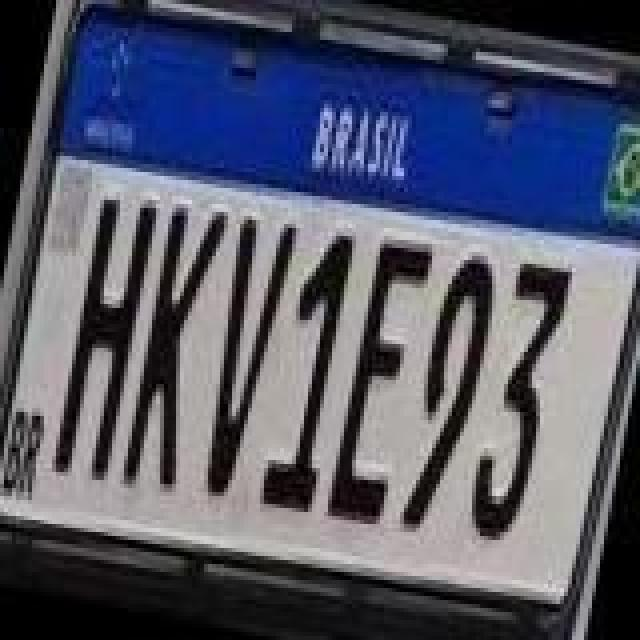1: (256, 226, 368, 526)
3: (462, 250, 578, 550)
9: (392, 244, 504, 540)
E: (322, 230, 438, 530)
H: (44, 182, 164, 490)
K: (118, 194, 234, 502)
V: (186, 208, 302, 504)
